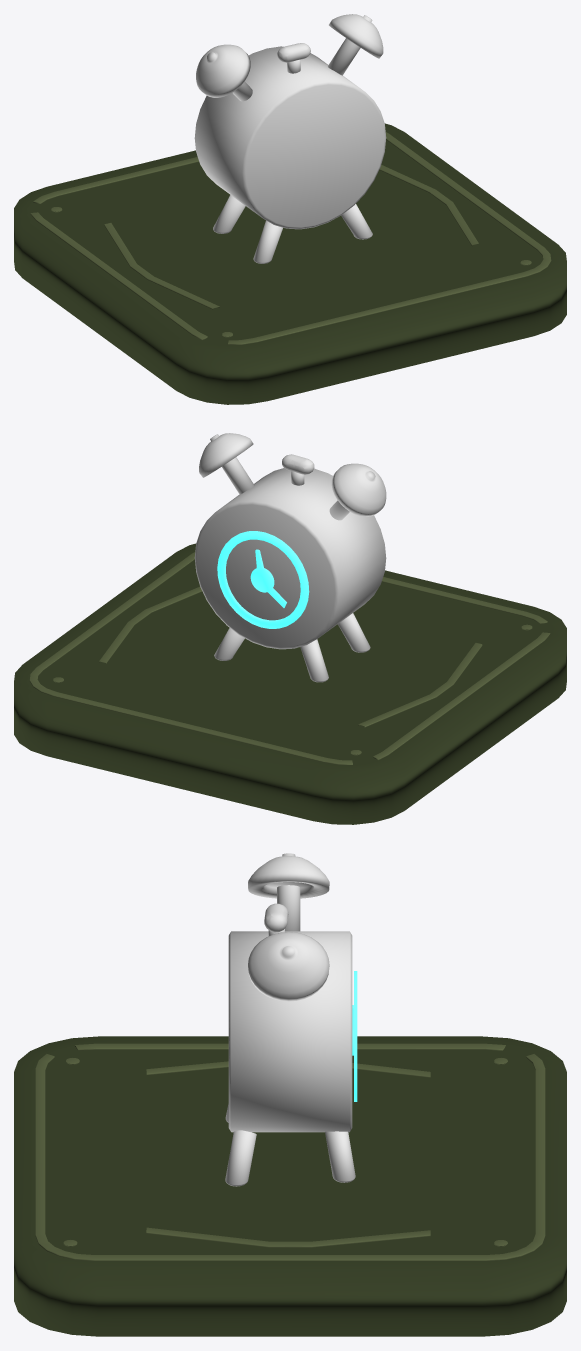
The model's file is NewClock.glb.
3 views of the same model, one above another, from view 1: azimuth 30°, elevation 25°; view 2: azimuth 150°, elevation 25°; view 3: azimuth 270°, elevation 25° (orthographic). The views are drawn at different scales.
Parts seen in each view (by area): view 1: Cube, Cylinder, Cube.001, Cylinder.004, Cylinder.005, Cylinder.006, Cylinder.001, Cylinder.003, Cylinder.007; view 2: Cube, Cylinder, Cube.001, Circle.001, Cylinder.004, Cylinder.005, Cylinder.001, Cylinder.006, Cylinder.003, Cylinder.002; view 3: Cube, Cylinder, Cube.001, Cylinder.005, Cylinder.004, Cylinder.007, Cylinder.002, Cylinder.003, Circle.001.
Part boxes in pixels (x1=…): Cube: x1=14, y1=123, x2=566, y2=404; Cylinder: x1=194, y1=46, x2=386, y2=229; Cube.001: x1=30, y1=132, x2=551, y2=344; Cylinder.004: x1=196, y1=44, x2=252, y2=101; Cylinder.005: x1=328, y1=14, x2=383, y2=75; Cylinder.006: x1=253, y1=220, x2=282, y2=263; Cylinder.001: x1=213, y1=195, x2=245, y2=233; Cylinder.003: x1=277, y1=43, x2=310, y2=73; Cylinder.007: x1=341, y1=204, x2=372, y2=239; Cube: x1=14, y1=543, x2=566, y2=824; Cylinder: x1=194, y1=468, x2=386, y2=649; Cube.001: x1=29, y1=552, x2=550, y2=764; Circle.001: x1=217, y1=531, x2=309, y2=628; Cylinder.004: x1=329, y1=463, x2=386, y2=520; Cylinder.005: x1=199, y1=433, x2=254, y2=494; Cylinder.001: x1=300, y1=639, x2=328, y2=682; Cylinder.006: x1=337, y1=613, x2=370, y2=652; Cylinder.003: x1=282, y1=454, x2=314, y2=485; Cylinder.002: x1=214, y1=628, x2=244, y2=660; Cube: x1=14, y1=1036, x2=566, y2=1336; Cylinder: x1=228, y1=931, x2=352, y2=1132; Cube.001: x1=35, y1=1043, x2=545, y2=1260; Cylinder.005: x1=248, y1=932, x2=329, y2=1001; Cylinder.004: x1=248, y1=853, x2=329, y2=931; Cylinder.007: x1=225, y1=1130, x2=256, y2=1186; Cylinder.002: x1=325, y1=1131, x2=355, y2=1182; Cylinder.003: x1=264, y1=903, x2=288, y2=935; Circle.001: x1=352, y1=971, x2=357, y2=1101.
Bounding box in the file's own units: 2 × 1.28 × 2.
